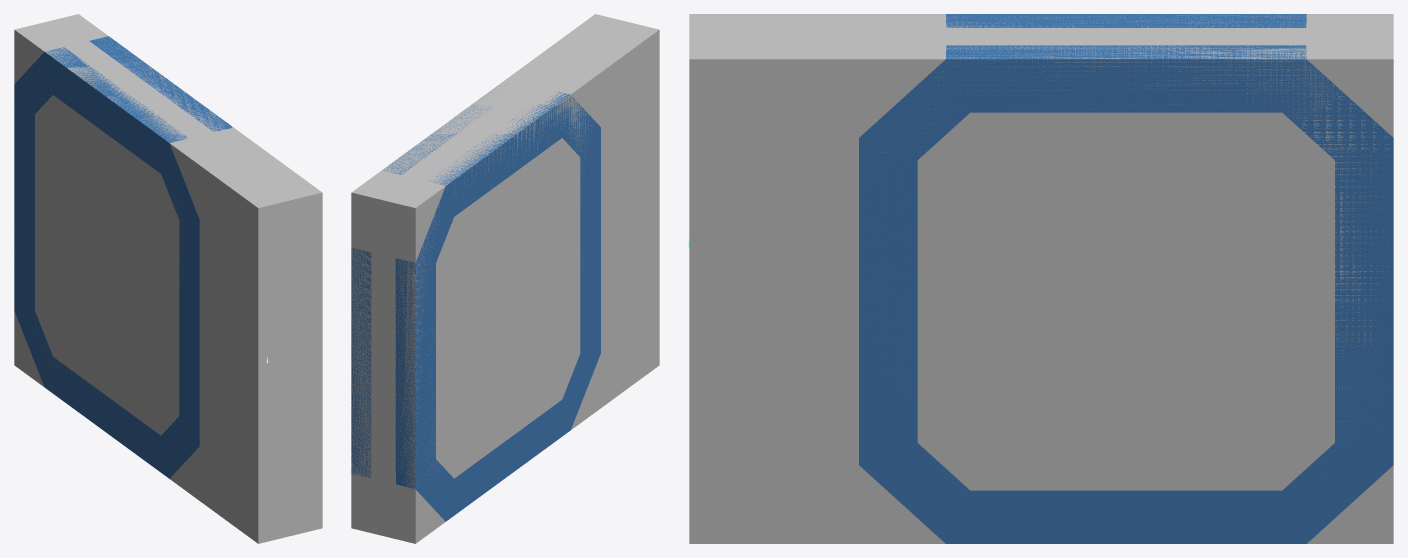
The model's file is SM_Billboard_04.fbx.
3 renders of one model, left to right at view 1: azimuth 30°, elevation 25°; view 2: azimuth 150°, elevation 25°; view 3: azimuth 270°, elevation 25°, orthographic. The views are drawn at different scales.
Visible parts, largest first — view 1: SM_Billboard_04_ConvexHulls, SM_Billboard_04; view 2: SM_Billboard_04_ConvexHulls, SM_Billboard_04; view 3: SM_Billboard_04_ConvexHulls, SM_Billboard_04.
Part boxes in pixels (x1,y1,x2,y2): SM_Billboard_04_ConvexHulls: [14, 14, 322, 543]; SM_Billboard_04: [14, 36, 267, 478]; SM_Billboard_04_ConvexHulls: [351, 14, 659, 543]; SM_Billboard_04: [351, 84, 600, 521]; SM_Billboard_04_ConvexHulls: [689, 14, 1393, 543]; SM_Billboard_04: [688, 14, 1393, 543].
Size of the model in its own units: 42 by 277 by 210.
2 materials, 1 textured.
